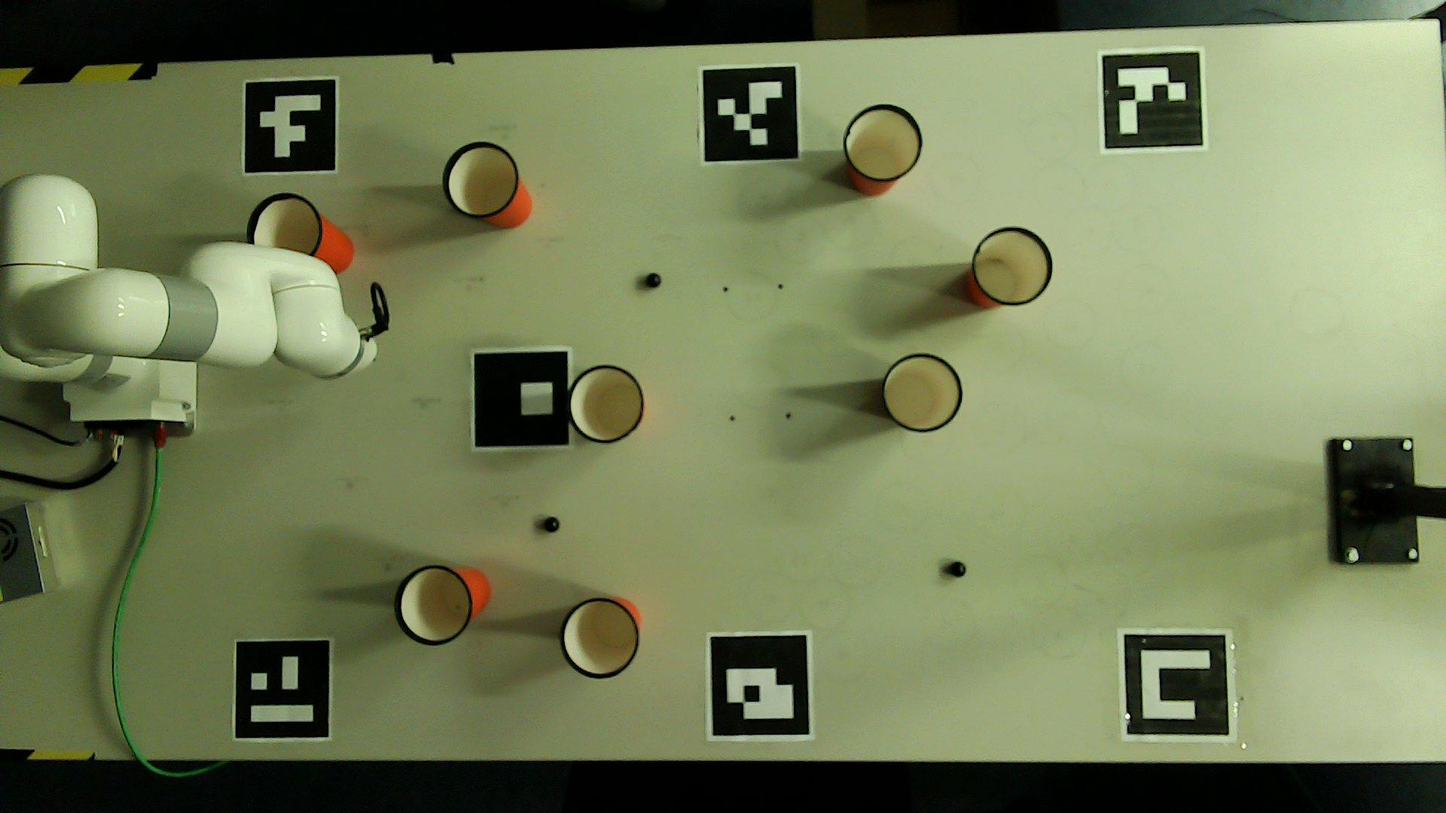ball: (546, 518, 558, 531), (648, 274, 660, 286), (952, 563, 964, 575)
cup: (561, 600, 638, 678), (885, 355, 961, 431), (975, 229, 1051, 304), (396, 567, 470, 644), (845, 106, 920, 180), (569, 367, 642, 442), (444, 143, 518, 216), (247, 195, 321, 247)
